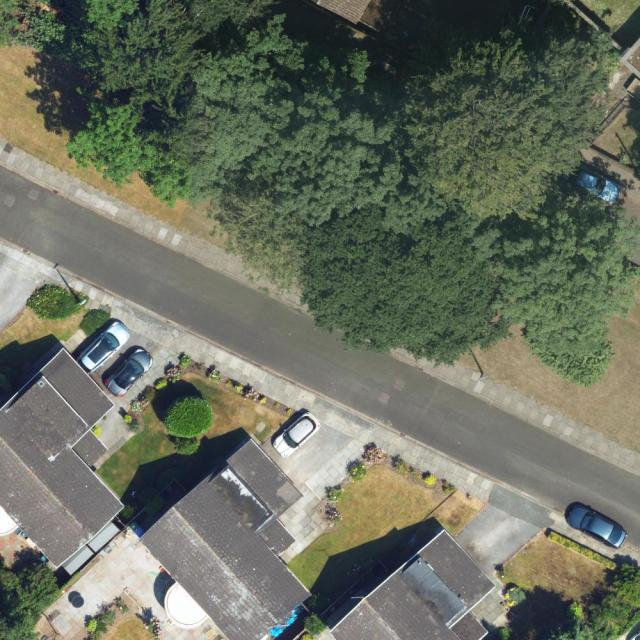roof: (137, 438, 314, 640), (0, 345, 126, 571), (322, 529, 495, 640), (303, 0, 376, 25), (623, 36, 640, 76)
